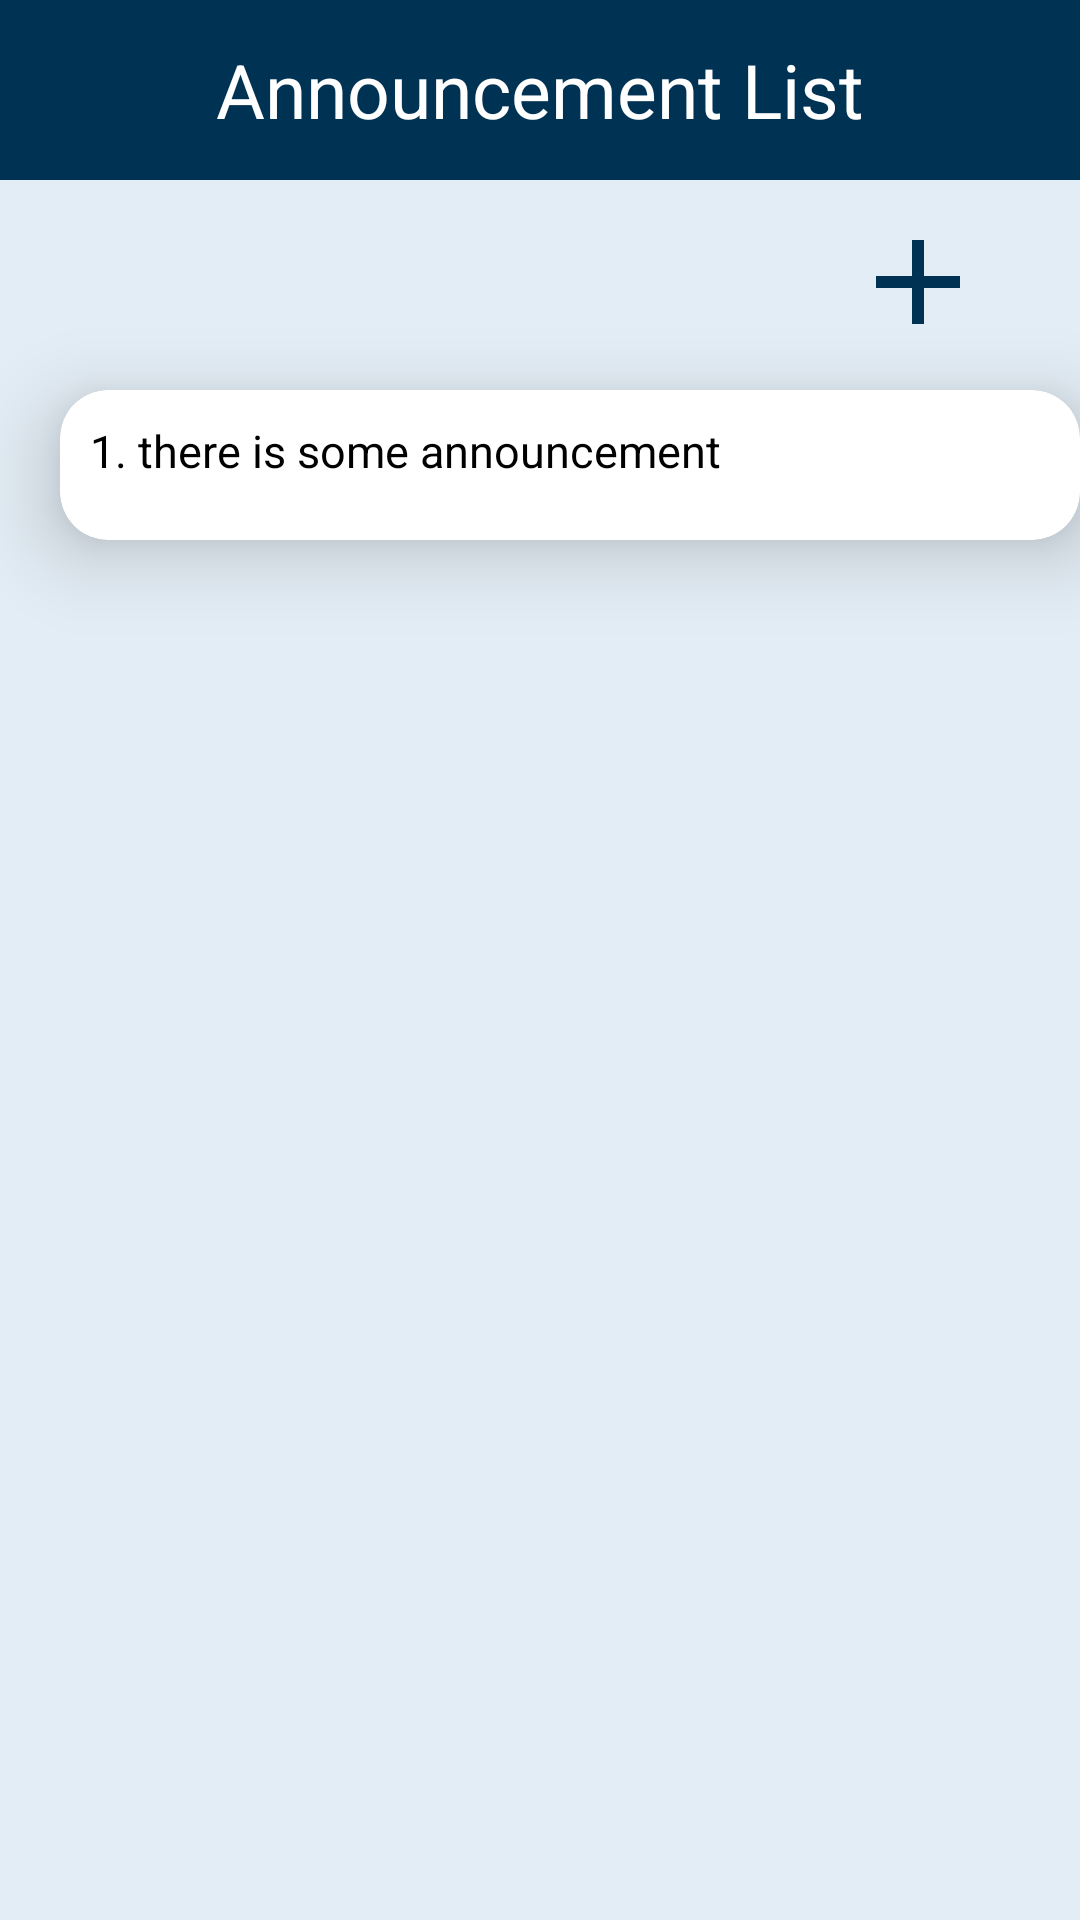

Icons on this 1080w x 1920h Android screen, each with the point to tap as (x=x, y=y):
add: (x=918, y=282)
